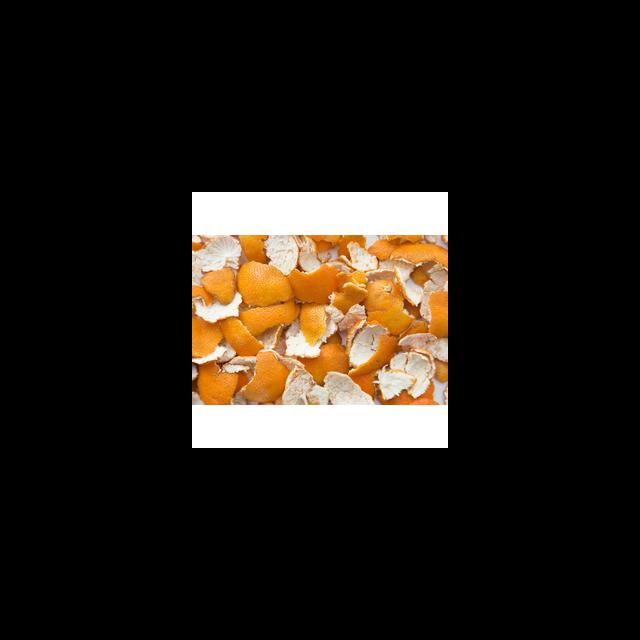food_waste: (193, 235, 448, 405)
